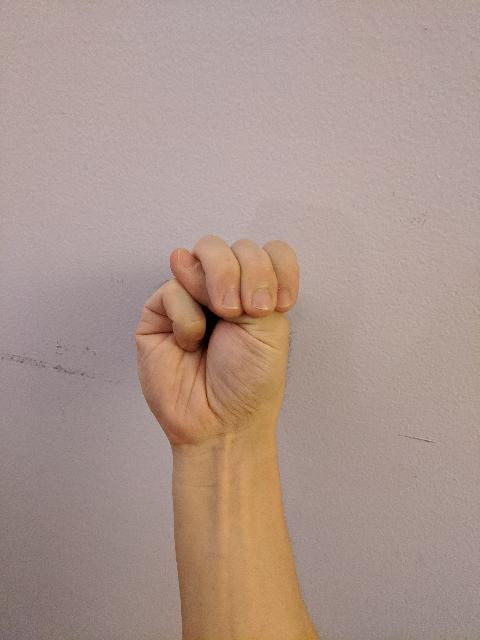M: (130, 230, 304, 442)
